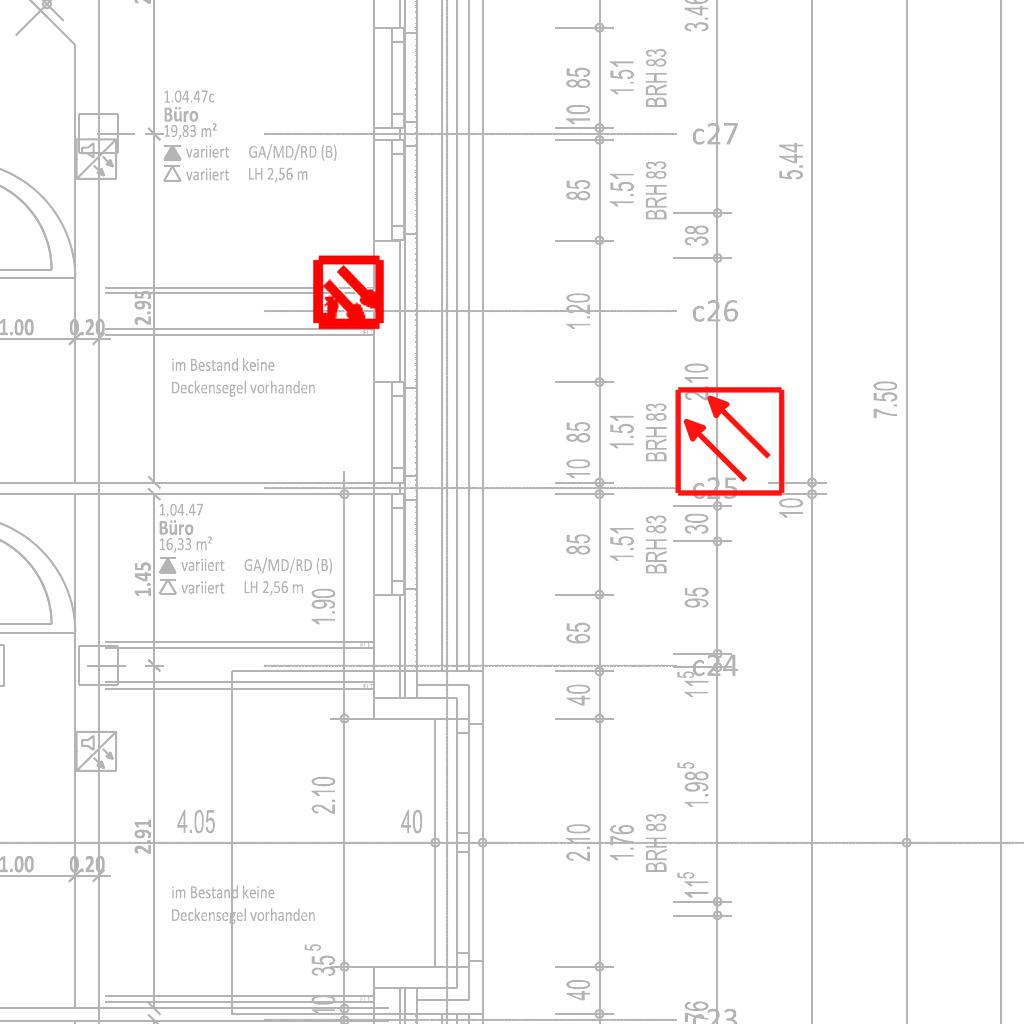OT_Multisensormelder_(Kombination_RMO_WMD): (292, 238, 405, 351)
RMO_Rauchmelder_optischer: (673, 385, 786, 498)
